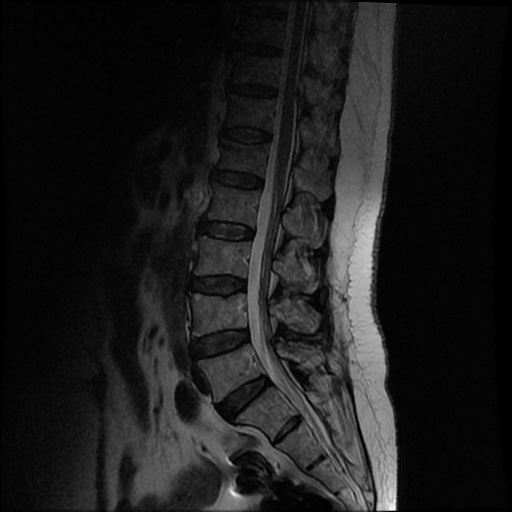L1,v2: (214, 141, 273, 174)
L1-L2,v1: (209, 165, 268, 198)
L2,v2: (204, 187, 263, 220)
L2-L3,v1: (199, 215, 258, 248)
L3,v2: (195, 240, 254, 273)
L3-L4,v5: (192, 267, 251, 300)
L4,v2: (188, 295, 247, 328)
L4-L5,v1: (193, 325, 252, 358)
L5,v2: (202, 354, 261, 387)
L5-S1,v1: (216, 376, 275, 409)
T12-L1,v1: (216, 117, 275, 150)
